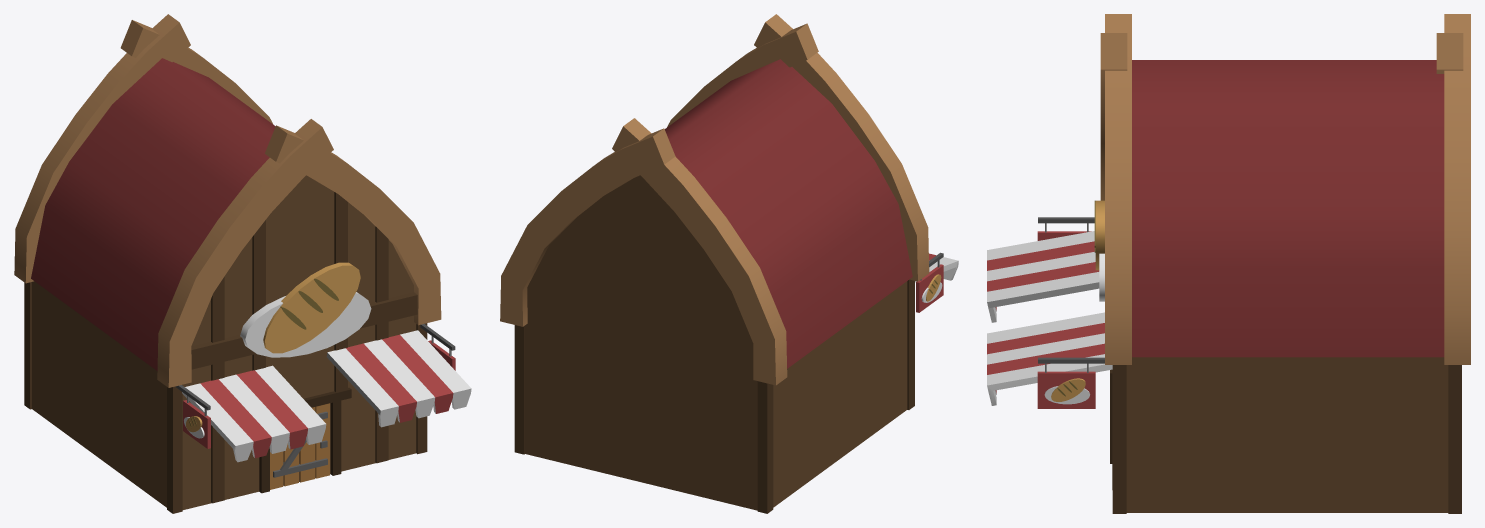
Rendered from Bakker.fbx.
The picture shows the model from 3 angles, left to right: view 1: azimuth 30°, elevation 25°; view 2: azimuth 150°, elevation 25°; view 3: azimuth 270°, elevation 25°; orthographic projection. The views are drawn at different scales.
Visible parts, largest first — view 1: Bakker; view 2: Bakker; view 3: Bakker.
Boxes of the visible parts, <box> form: Bakker: <box>14,14,471,513</box>; Bakker: <box>500,14,958,513</box>; Bakker: <box>987,14,1470,513</box>.
Bounding box in the file's own units: 2.8 × 3.47 × 3.64.
